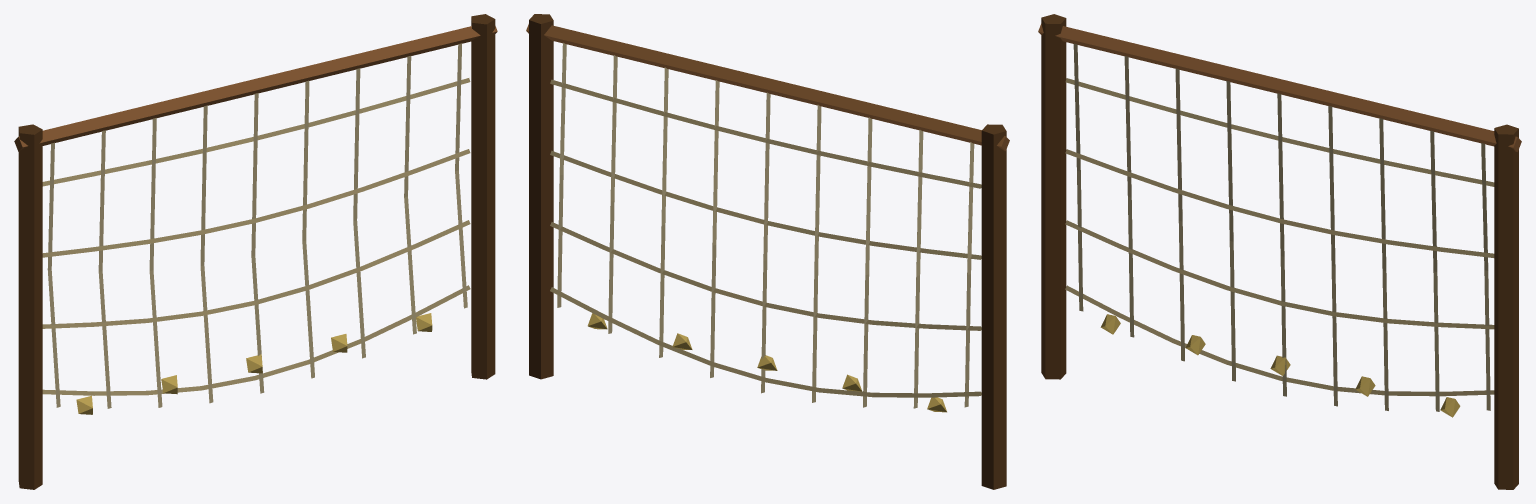
The model's file is netrack.glb.
3 views of the same model, side by side, from view 1: azimuth 30°, elevation 25°; view 2: azimuth 150°, elevation 25°; view 3: azimuth 330°, elevation 25° (orthographic).
Visible parts, largest first — view 1: base; view 2: base; view 3: base.
Boxes of the visible parts, x1,y1,x2,y2 form: base: (14,14,497,489); base: (526,14,1009,489); base: (1038,14,1521,489).
Bounding box in the file's own units: 0.84 × 0.6 × 0.0375.
